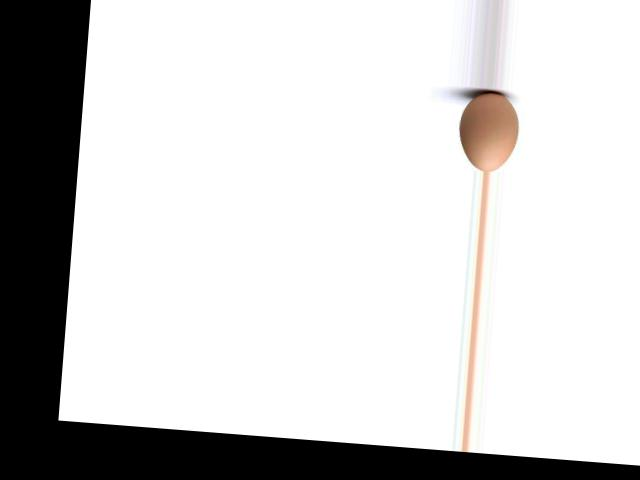egg: (457, 89, 521, 173)
